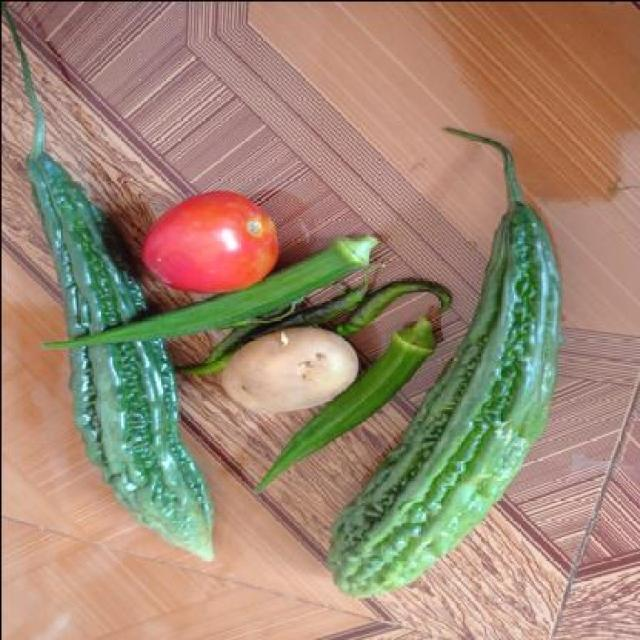Bitter melon: (408, 146, 557, 617), (12, 328, 245, 562)
Green Chili: (330, 278, 456, 334)
Potato: (224, 324, 358, 418)
Tomato: (122, 183, 276, 297)
